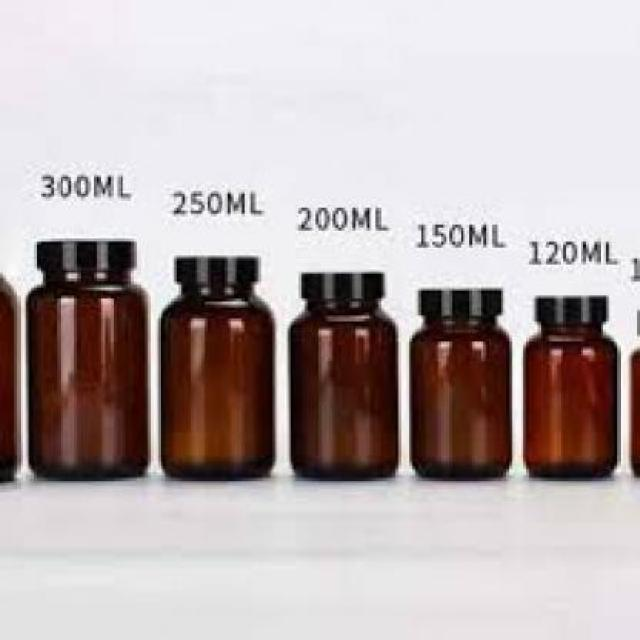kaca: (23, 276, 148, 478), (160, 291, 274, 478), (288, 302, 395, 476), (406, 316, 512, 478), (522, 324, 618, 478), (0, 271, 20, 483), (629, 338, 637, 478)
